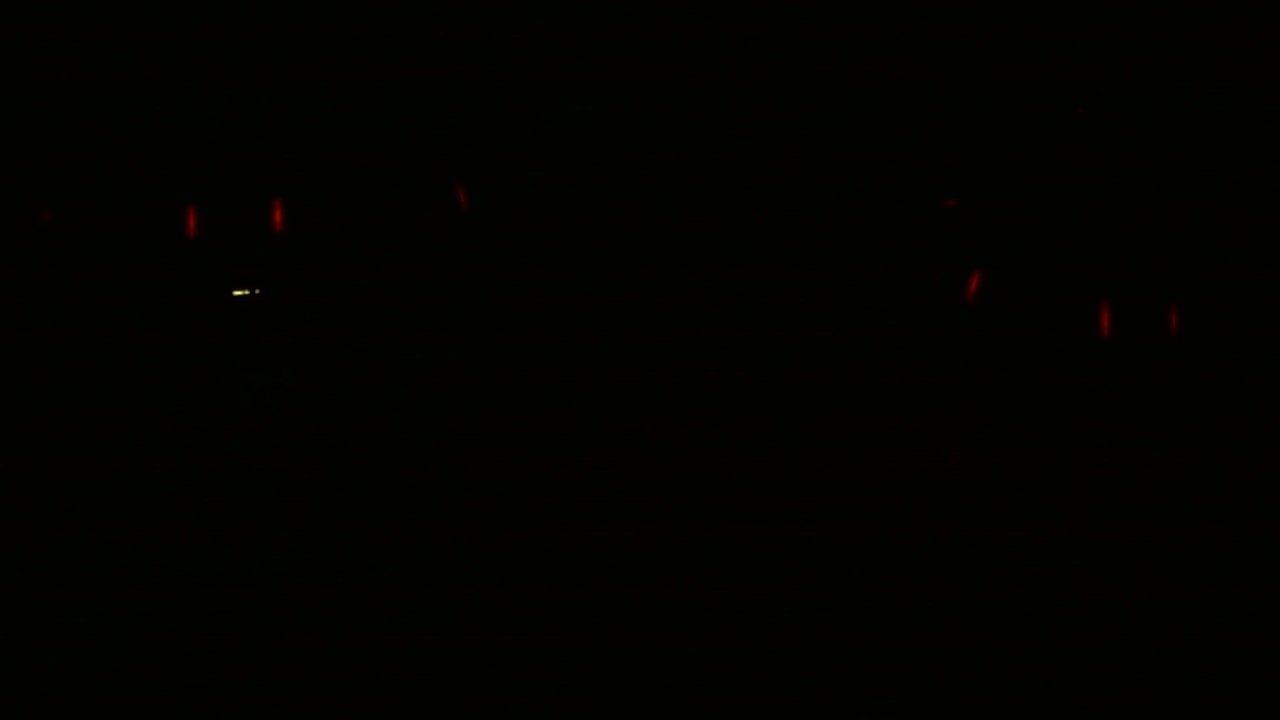pair1: (183, 197, 287, 237), (1100, 307, 1179, 337)
